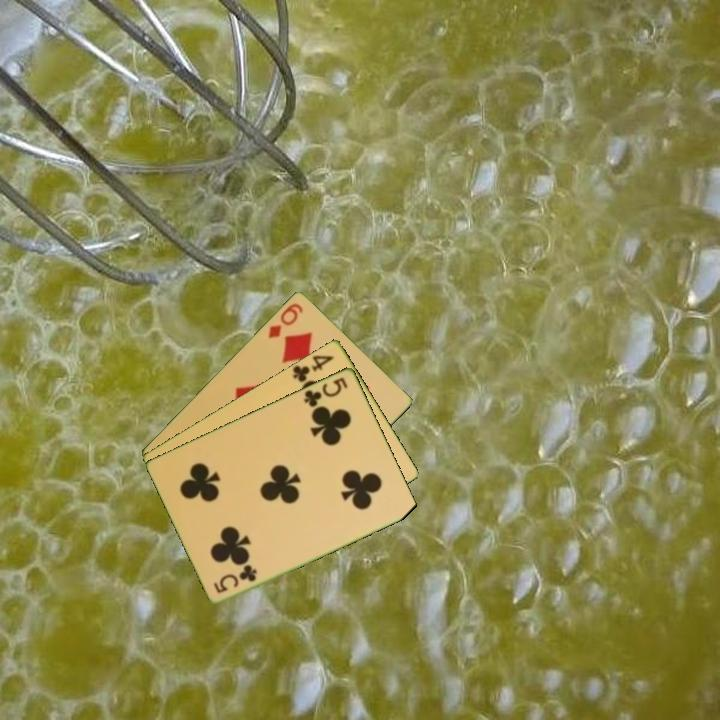4c: (289, 351, 337, 385)
5c: (300, 373, 351, 410), (210, 561, 260, 596)
6d: (264, 299, 306, 341)
